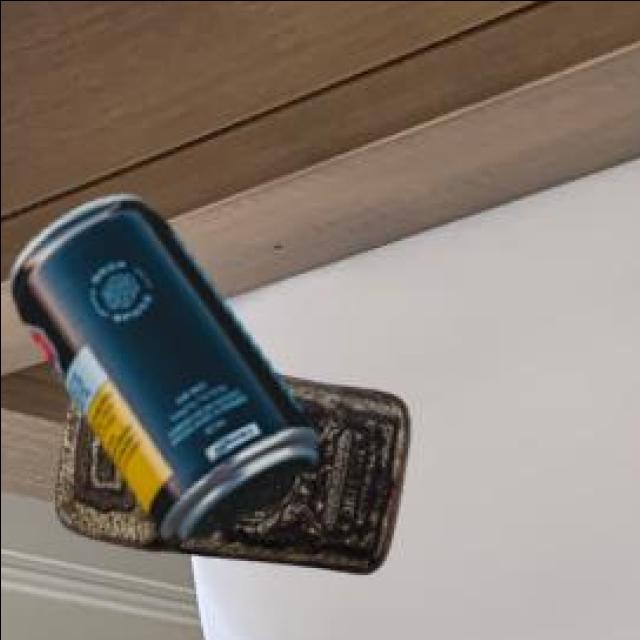logam: (15, 199, 319, 545), (60, 378, 413, 575)
